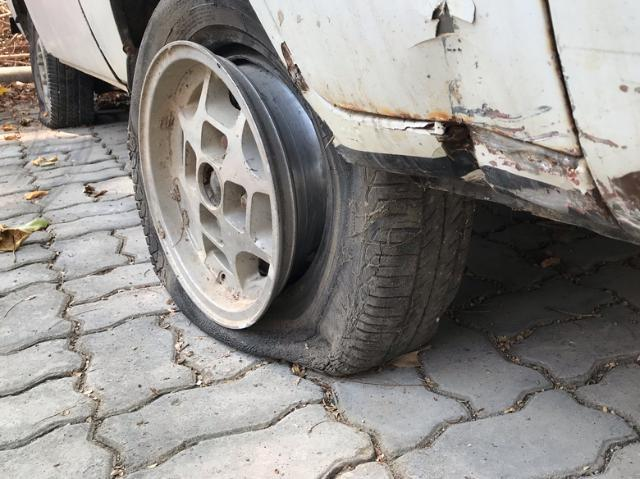Bumper: (335, 0, 640, 216)
